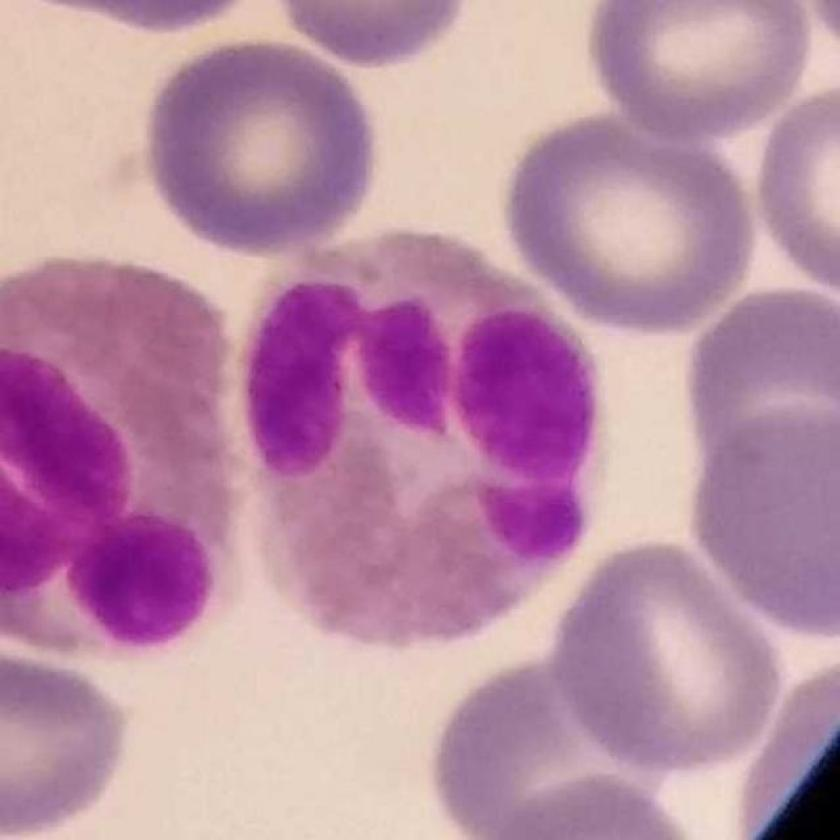eosinophil: (244, 219, 617, 668), (3, 250, 239, 669)
